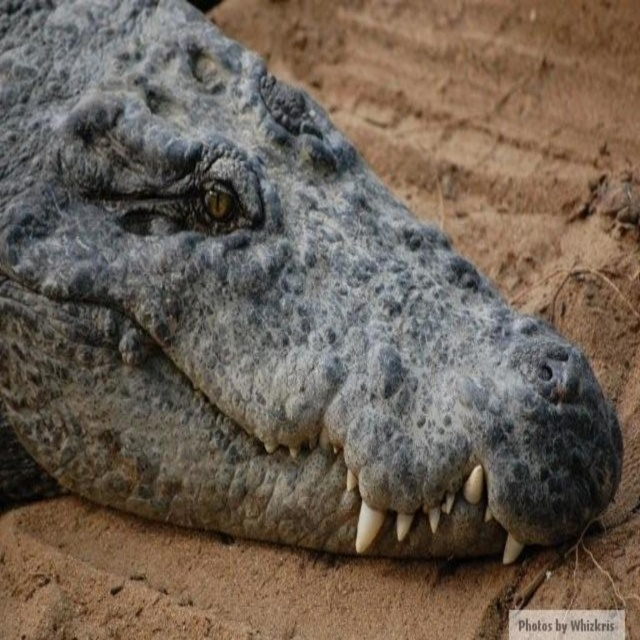Crocodile: (0, 0, 623, 565)
